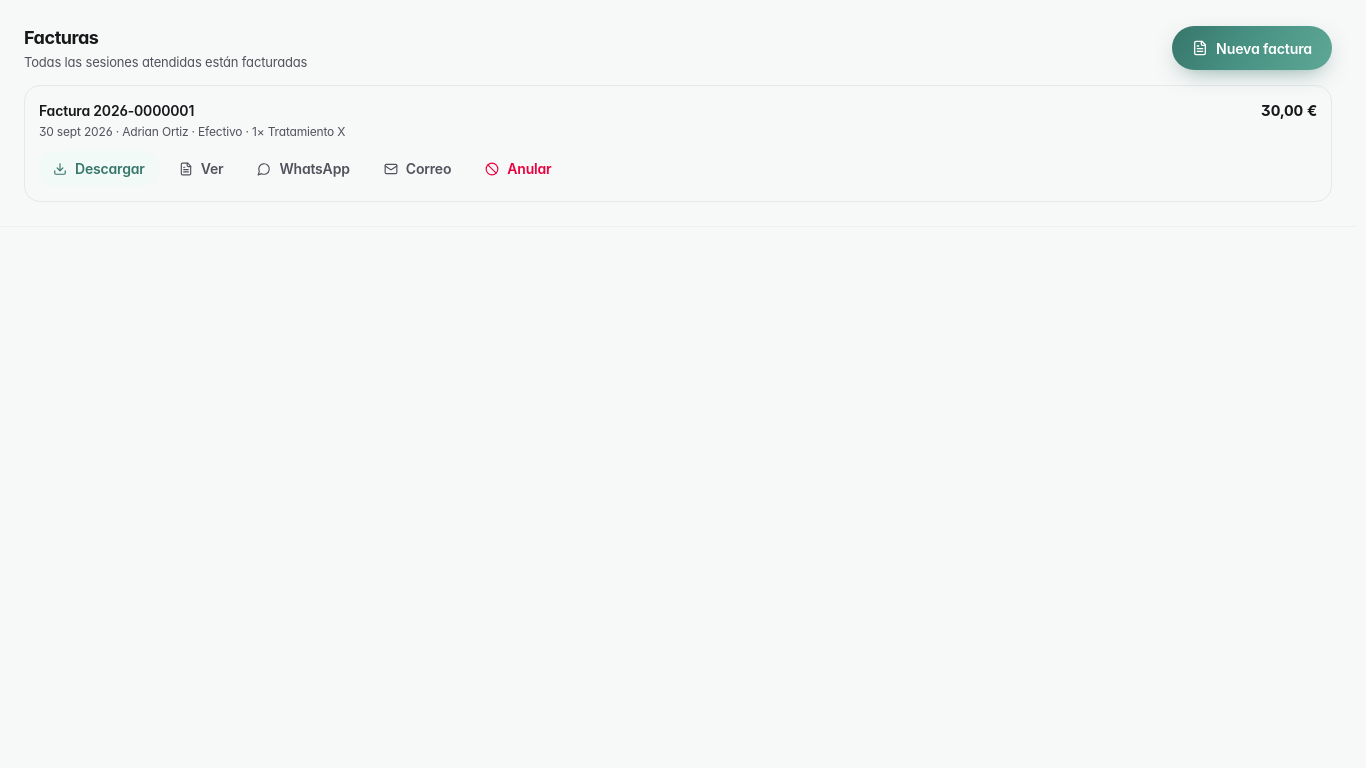
it: anular una factura › abre el diálogo del panel (no el prompt del navegador) y exige motivo
The width and height of the screenshot is (1366, 768).
Click the button "Anular": (518, 168) [471,150,566,186]
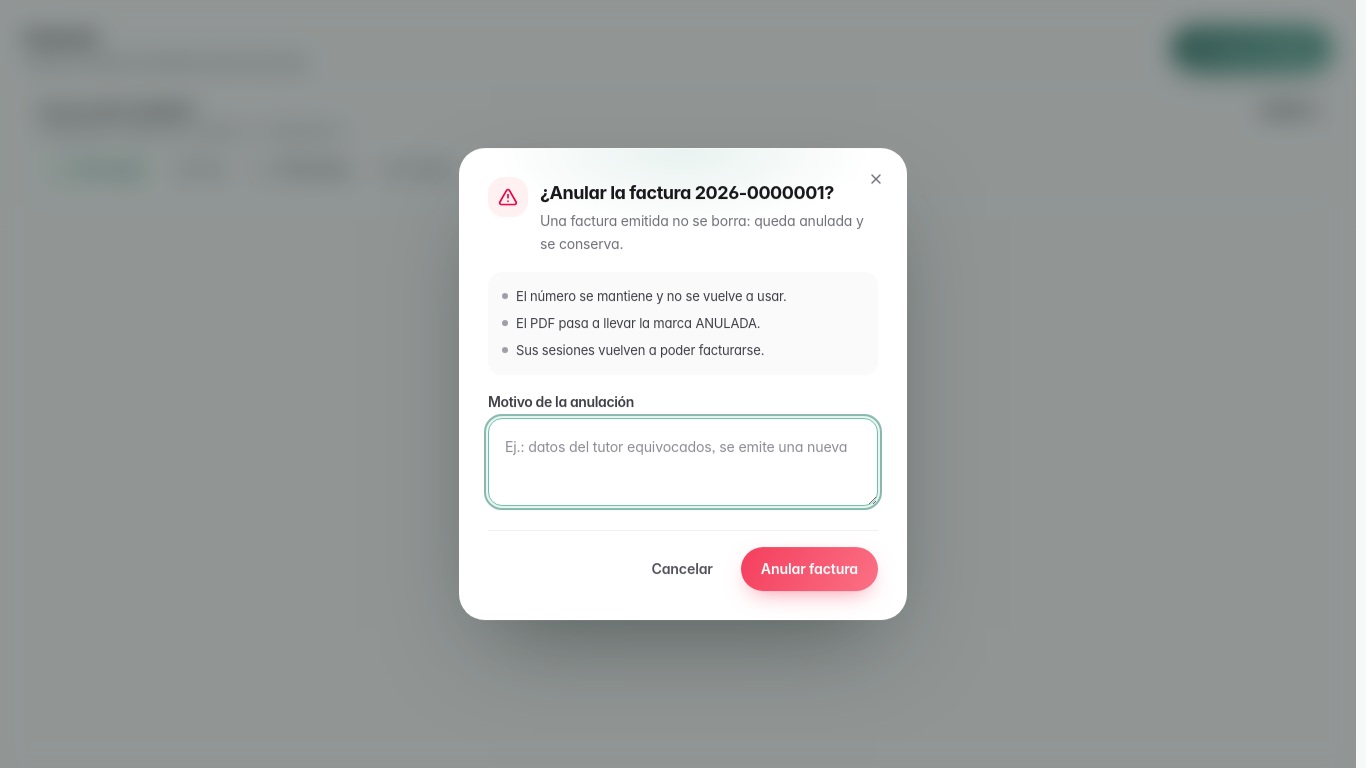
expect the heading "¿Anular la factura 2026-0000001?" is shown: met, box [540,179,878,206]
Click the button "Anular factura": (809, 569) [741,547,878,591]
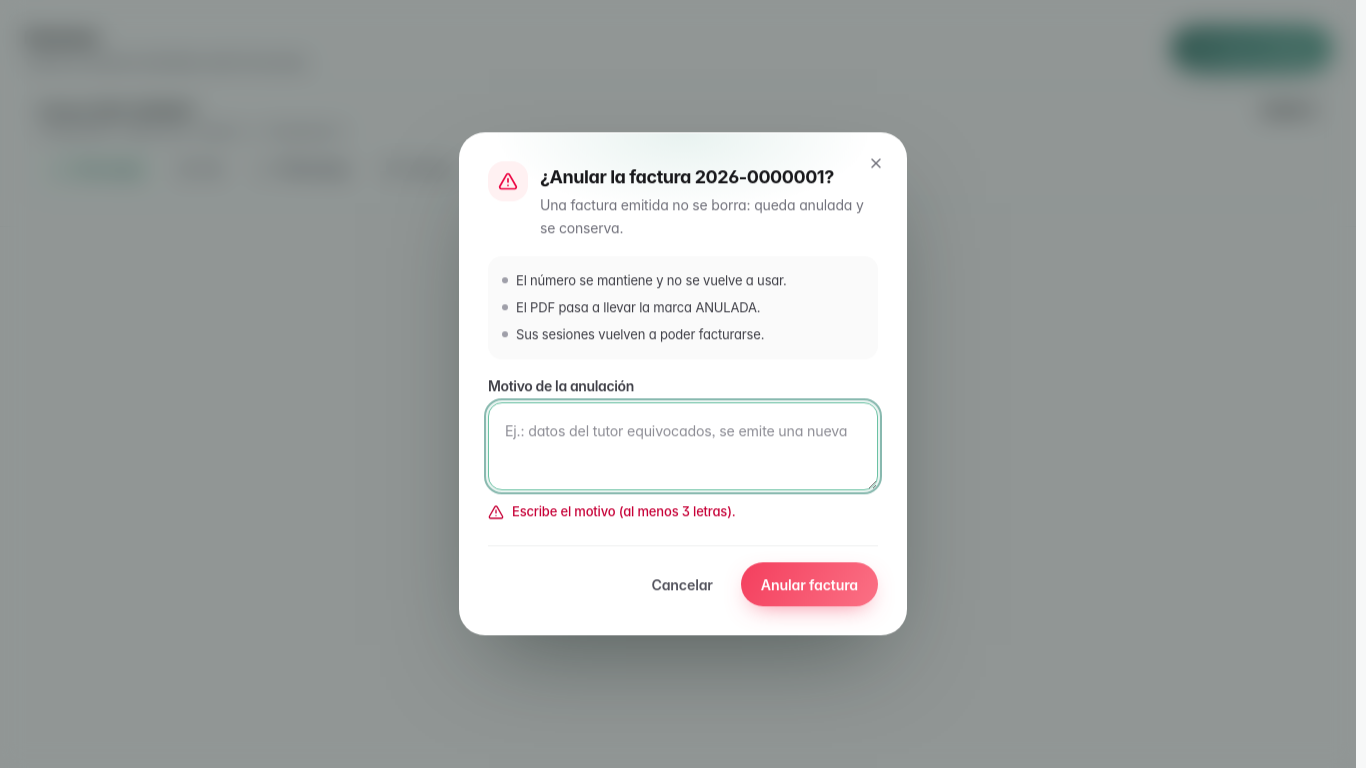
expect the text "Escribe el motivo (al menos 3 letras)." is shown: met, box [488,503,736,520]
In the text box labelled "Motivo de la anulación": (683, 446) [488,402,878,490], type "Datos del tutor equivocados"
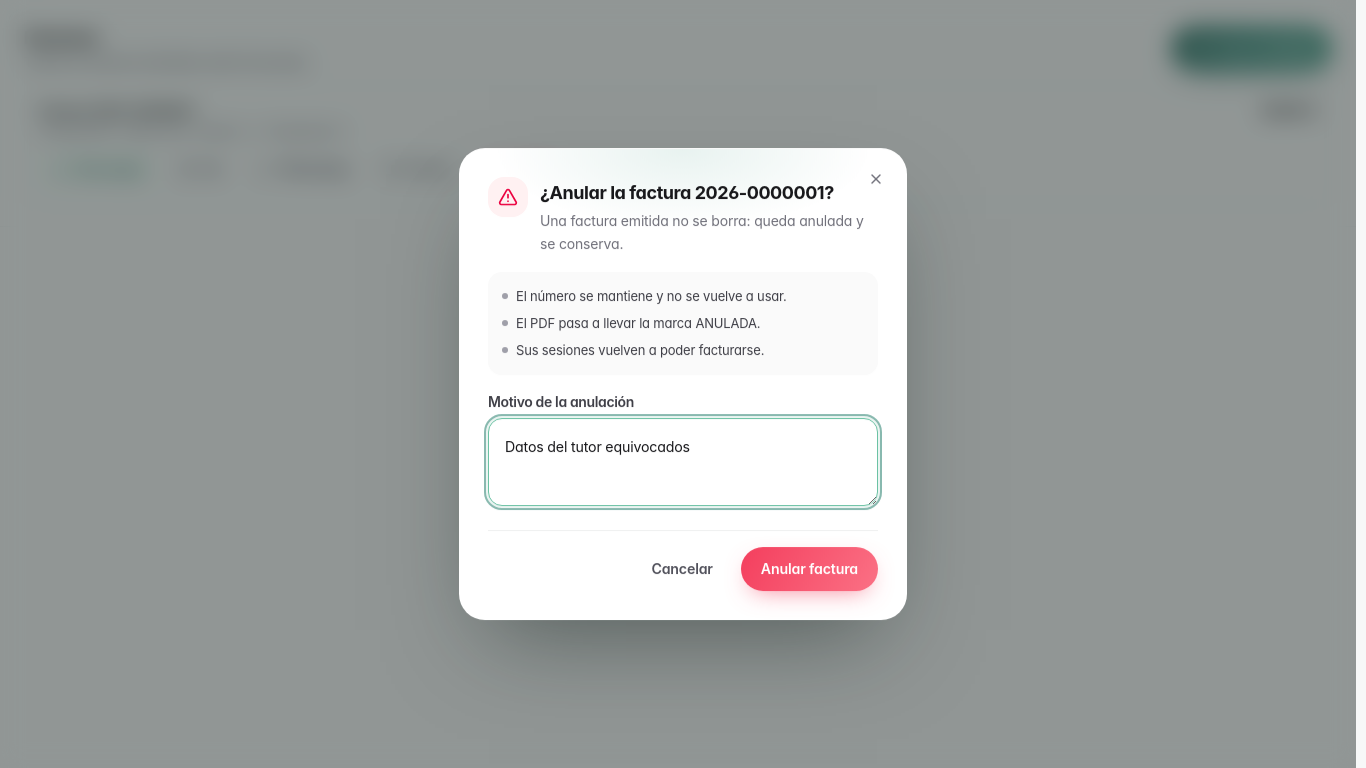
Click the button "Anular factura": (809, 569) [741,547,878,591]
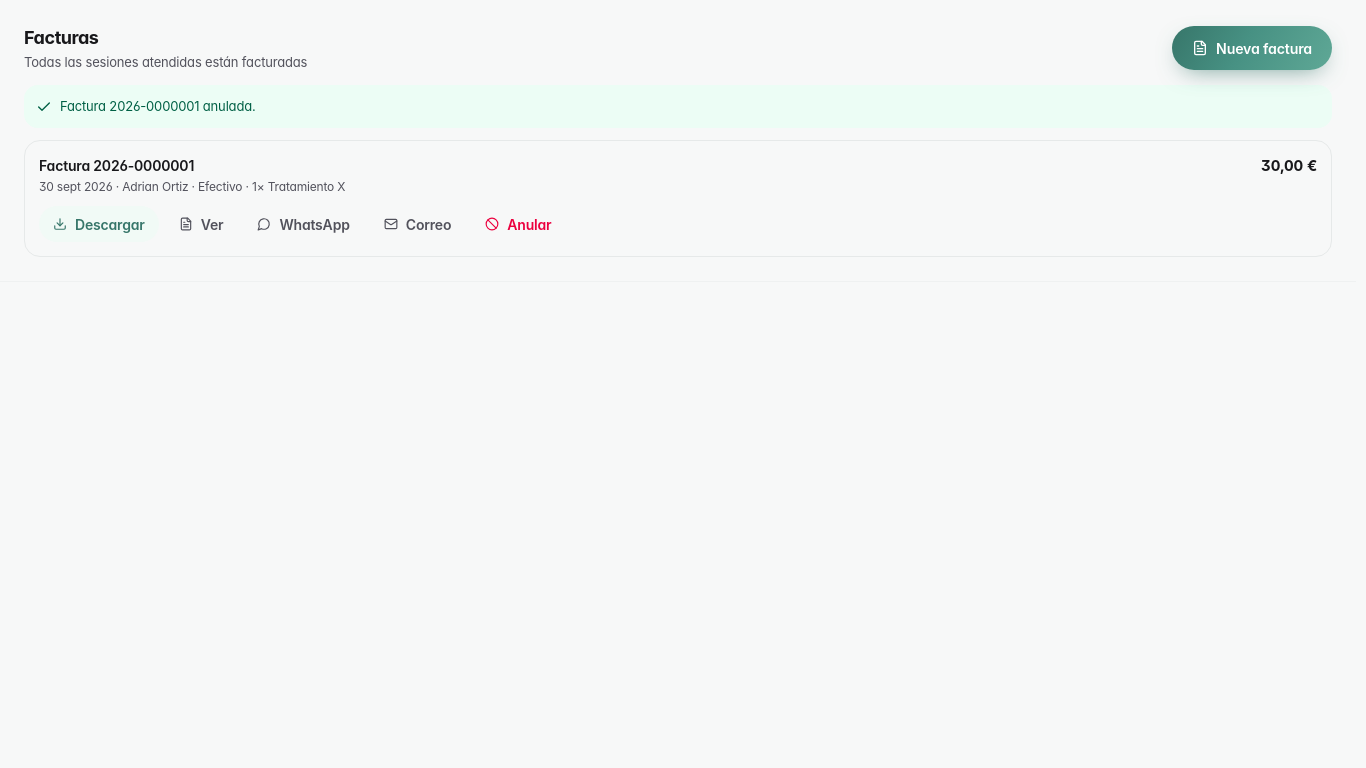
expect the text "Factura 2026-0000001 anulada." is shown: met, box [24,84,1332,128]
